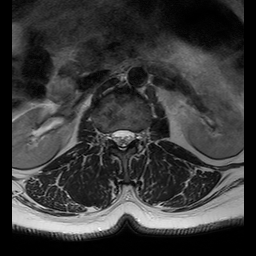CCS_normal: (119, 124, 127, 157)
LFS_stenosis: (135, 126, 141, 146)
LLS_normal: (127, 125, 134, 147)
RFS_stenosis: (105, 127, 112, 147)
RLS_normal: (111, 125, 119, 151)
